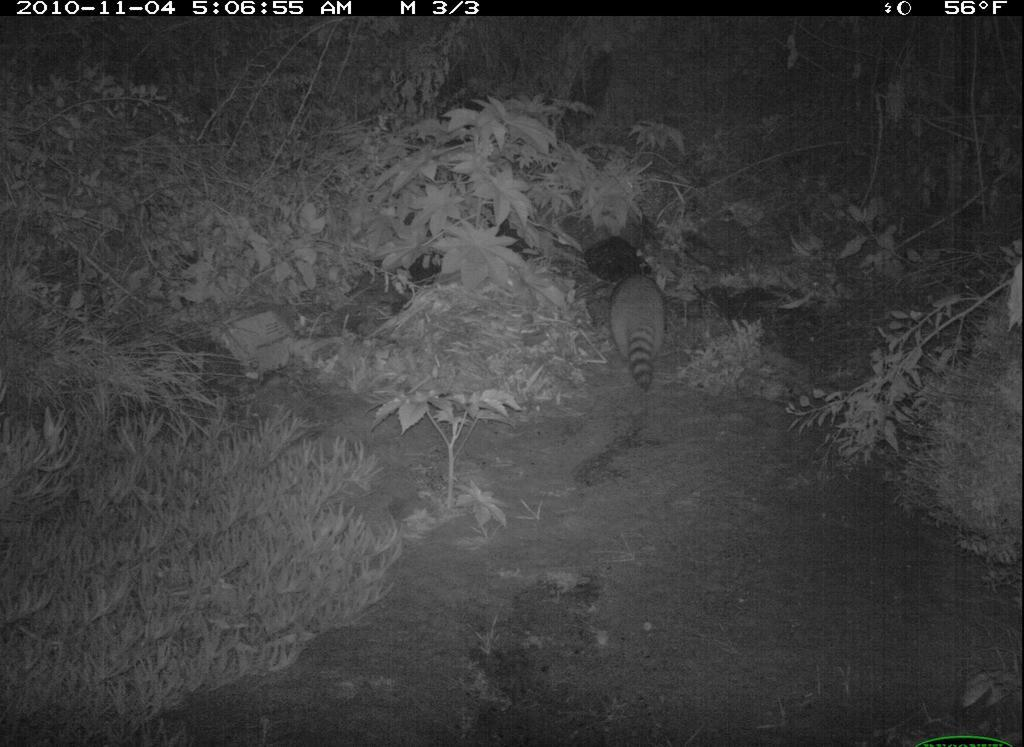raccoon: (600, 263, 697, 399)
